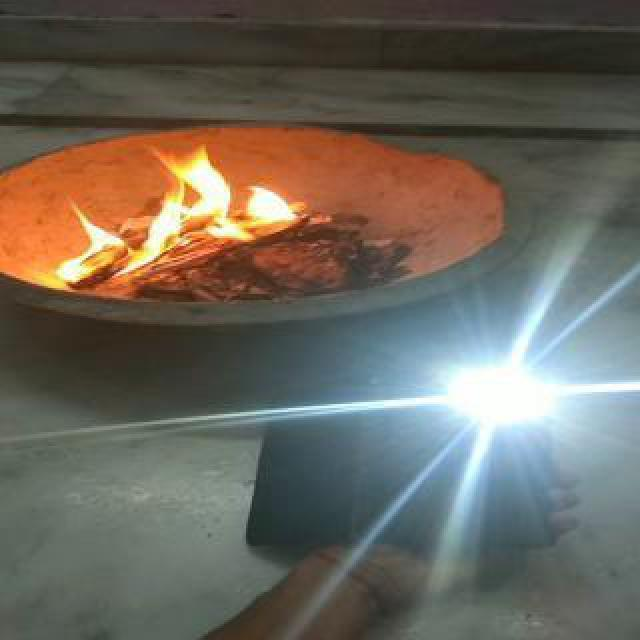Fire: (36, 148, 304, 286)
